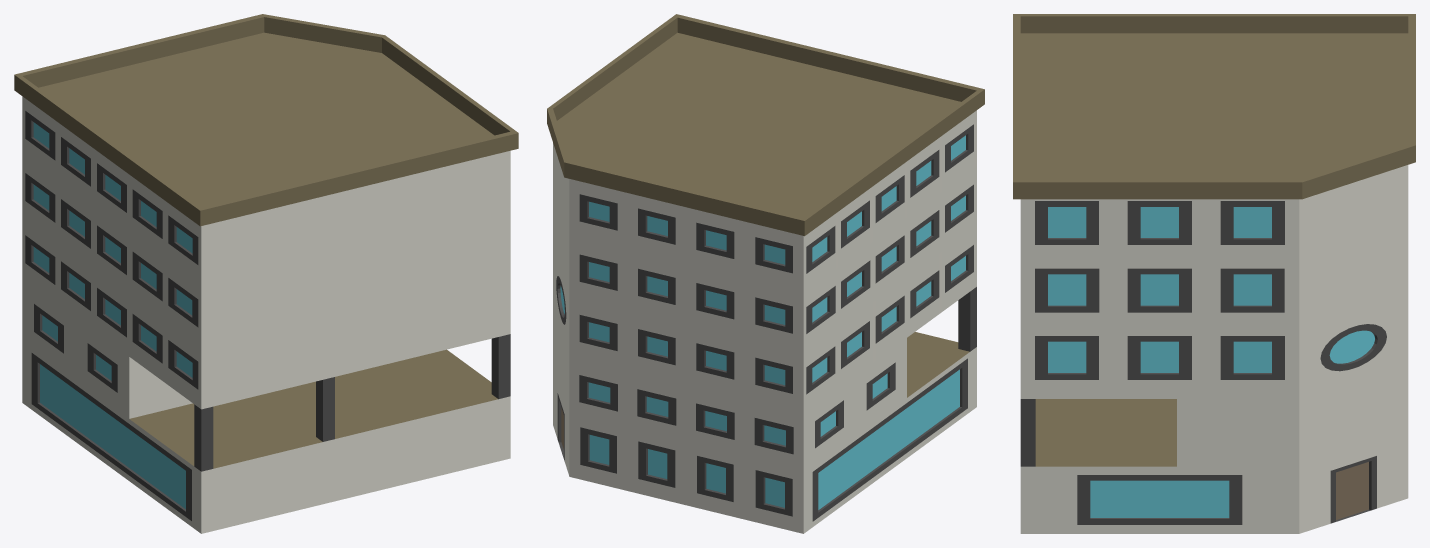
The model's file is random res build 13.fbx.
The picture shows the model from 3 angles, left to right: view 1: azimuth 30°, elevation 25°; view 2: azimuth 150°, elevation 25°; view 3: azimuth 270°, elevation 25°; orthographic projection. The views are drawn at different scales.
Visible parts, largest first — view 1: building_013.002; view 2: building_013.002; view 3: building_013.002.
Boxes of the visible parts, bbox=[...] form: building_013.002: bbox=[14, 14, 518, 533]; building_013.002: bbox=[547, 14, 984, 533]; building_013.002: bbox=[1013, 14, 1415, 533].
Bounding box in the file's own units: 5266 × 5163 × 5326.
